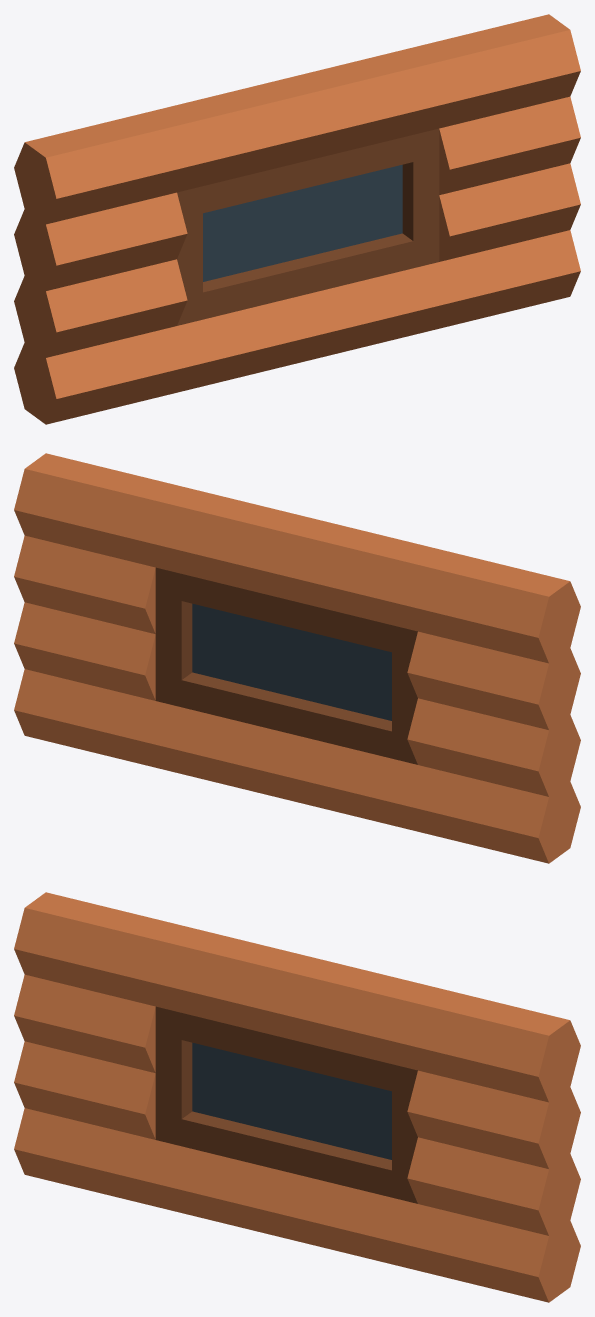
Rendered from cabinWindowHalf.fbx.
The picture shows the model from 3 angles, top to bottom: view 1: azimuth 30°, elevation 25°; view 2: azimuth 150°, elevation 25°; view 3: azimuth 330°, elevation 25°; orthographic projection.
Parts seen in each view (by area): view 1: cabinWindowHalf; view 2: cabinWindowHalf; view 3: cabinWindowHalf.
Part boxes in pixels (bbox=[...]): cabinWindowHalf: bbox=[14, 14, 580, 424]; cabinWindowHalf: bbox=[14, 453, 580, 863]; cabinWindowHalf: bbox=[14, 892, 580, 1302].
Bounding box in the file's own units: 10 × 4.86 × 1.4.
